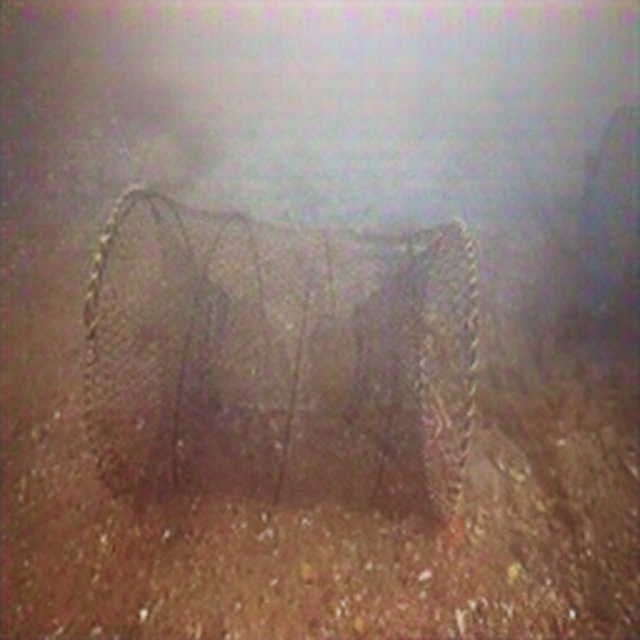mine: (83, 182, 477, 535)
